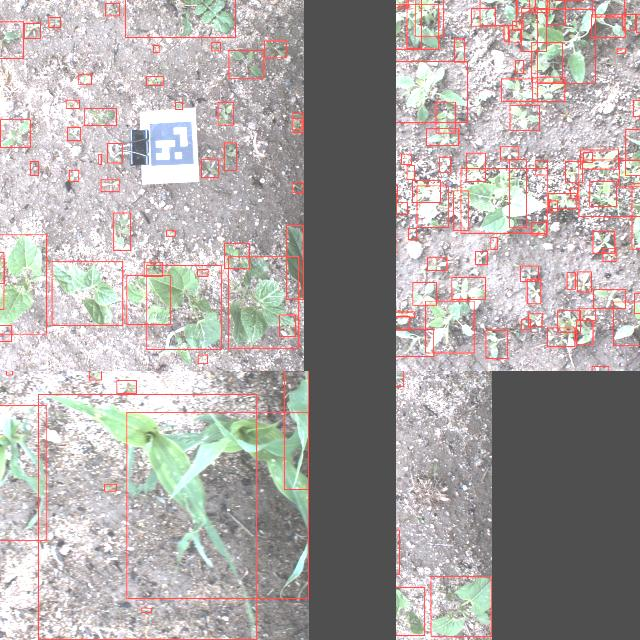crop: (38, 394, 256, 638), (126, 412, 308, 598), (228, 256, 298, 348), (146, 265, 222, 349), (0, 404, 45, 539), (460, 168, 546, 232), (0, 234, 46, 333), (51, 261, 122, 325), (431, 576, 491, 636), (284, 371, 308, 488), (126, 274, 170, 324), (286, 224, 304, 300), (396, 587, 424, 635), (417, 185, 448, 227)
weed: (537, 8, 595, 84), (396, 60, 467, 121), (125, 0, 235, 37), (578, 158, 640, 216), (424, 300, 474, 352), (396, 3, 438, 48), (530, 42, 562, 82), (508, 159, 526, 227), (613, 301, 640, 345), (520, 8, 546, 50), (414, 0, 443, 35), (228, 49, 264, 77), (396, 328, 433, 355), (479, 0, 515, 25), (0, 20, 23, 57), (500, 78, 538, 100), (0, 119, 29, 147), (509, 104, 539, 130), (532, 76, 564, 100), (451, 277, 485, 299), (591, 14, 625, 36), (405, 0, 420, 47), (625, 129, 640, 175), (112, 212, 130, 250), (580, 150, 618, 168), (224, 242, 250, 268), (590, 180, 616, 206), (593, 288, 625, 308), (452, 190, 468, 230), (485, 329, 507, 358), (435, 101, 455, 132), (412, 180, 440, 202), (618, 160, 640, 186), (547, 328, 575, 347), (556, 310, 580, 332), (412, 282, 436, 304), (83, 108, 115, 124), (592, 0, 624, 16), (426, 128, 458, 144), (466, 152, 484, 180), (592, 231, 614, 253), (548, 192, 576, 208), (470, 8, 494, 26), (547, 0, 565, 24), (564, 160, 582, 182), (576, 320, 592, 344), (264, 41, 286, 58), (526, 278, 540, 304), (279, 314, 295, 336), (224, 142, 236, 170), (200, 159, 218, 177), (218, 102, 232, 125), (106, 142, 122, 162), (144, 260, 162, 276), (577, 271, 591, 291), (426, 256, 446, 270), (23, 22, 39, 38), (499, 146, 517, 160), (520, 266, 538, 280), (292, 112, 304, 132), (454, 38, 464, 62), (116, 380, 136, 392), (104, 2, 120, 16), (622, 14, 636, 30), (529, 0, 549, 11), (100, 179, 118, 191), (578, 308, 596, 320), (516, 0, 534, 11), (66, 126, 80, 140), (528, 312, 542, 326), (530, 222, 546, 234), (396, 315, 409, 329), (438, 156, 449, 172), (602, 248, 616, 260), (475, 250, 487, 264), (535, 160, 547, 174), (0, 325, 10, 341), (508, 29, 520, 41), (633, 292, 640, 312), (396, 202, 407, 214), (146, 76, 162, 84), (406, 164, 414, 180), (567, 272, 575, 288), (65, 99, 79, 108), (292, 182, 304, 192), (78, 73, 90, 83), (48, 17, 60, 27), (396, 371, 404, 386), (29, 161, 37, 175), (633, 99, 640, 115), (520, 318, 530, 329), (515, 59, 523, 72), (88, 371, 101, 379), (591, 365, 608, 371), (197, 354, 207, 364), (68, 170, 78, 180), (292, 118, 302, 128), (401, 153, 411, 163), (406, 228, 416, 238), (549, 200, 557, 212), (502, 24, 508, 40), (635, 13, 640, 32), (396, 311, 414, 316), (396, 0, 408, 7), (104, 484, 116, 491), (197, 268, 207, 276), (584, 152, 592, 162), (512, 21, 522, 29), (0, 258, 3, 283), (212, 41, 220, 50), (490, 237, 496, 249), (570, 186, 576, 198), (141, 606, 151, 612), (166, 230, 174, 236), (175, 102, 182, 108), (153, 44, 159, 51), (616, 48, 626, 52), (98, 154, 100, 164), (6, 371, 12, 374)
